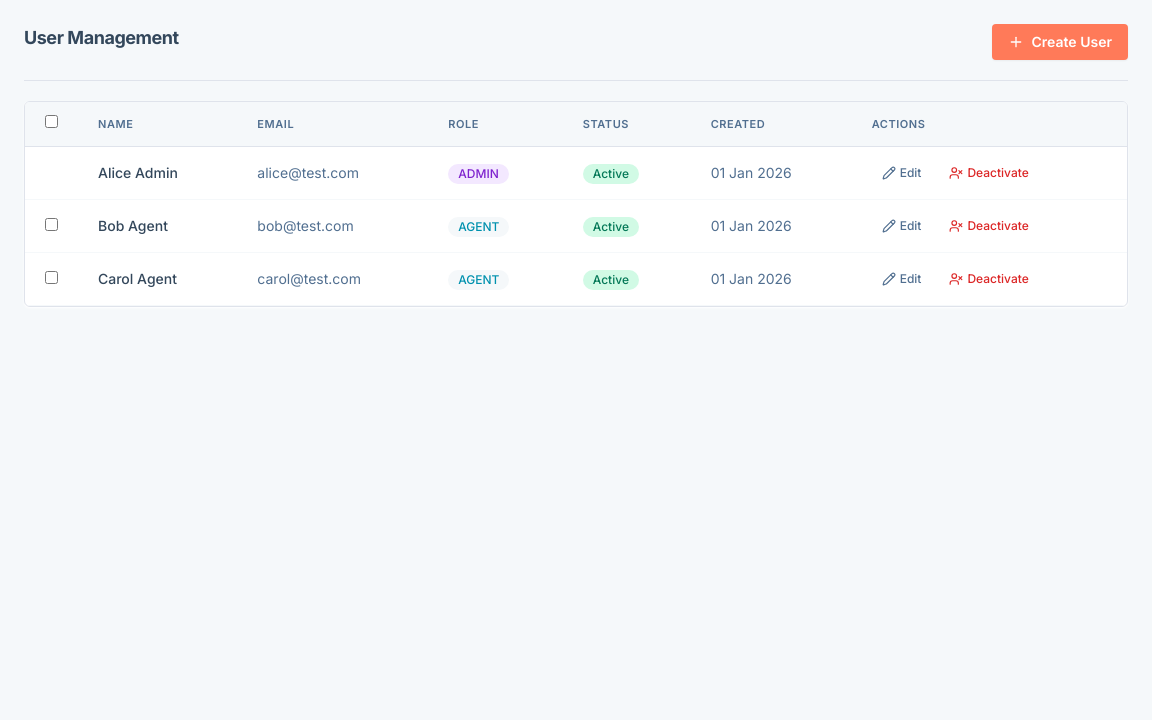
Test: UsersPage — force logout selected agents › clears the selection and hides the button after a successful logout
Expected: the text "Bob Agent" is shown, [78,200,237,252]
Click the checkbox named "Select Bob Agent": click(52, 224) [45,218,58,231]
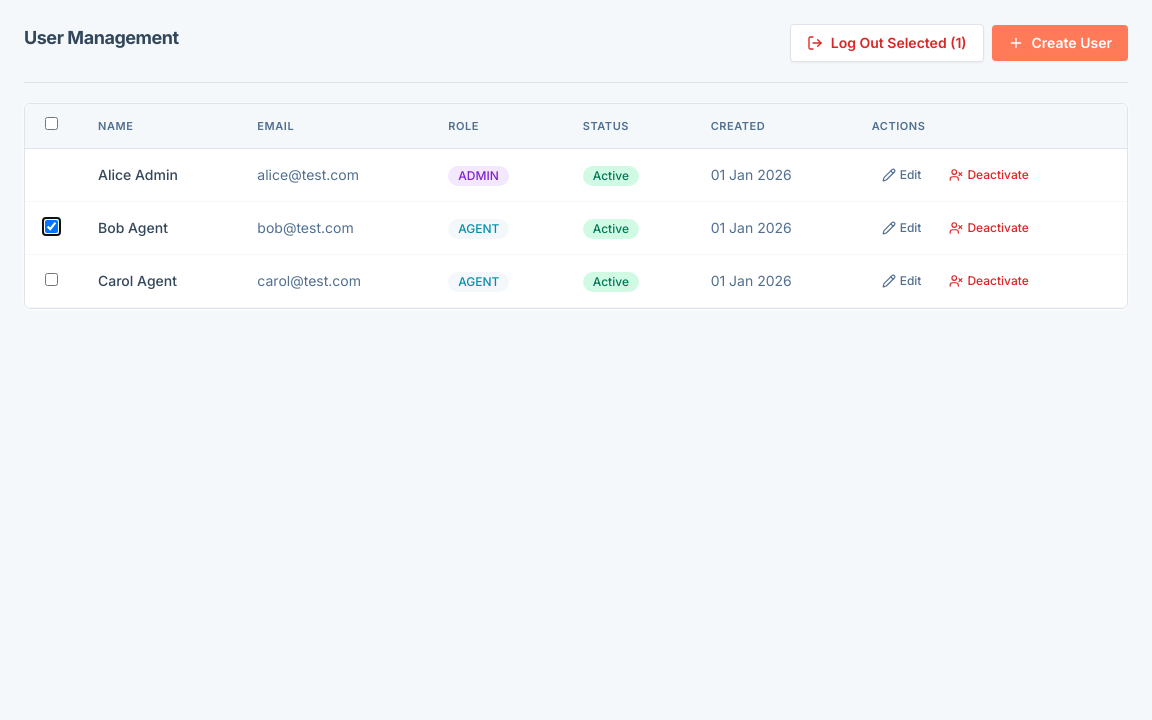
Click the button "Log Out Selected (1)": click(887, 43) [790,24,984,62]
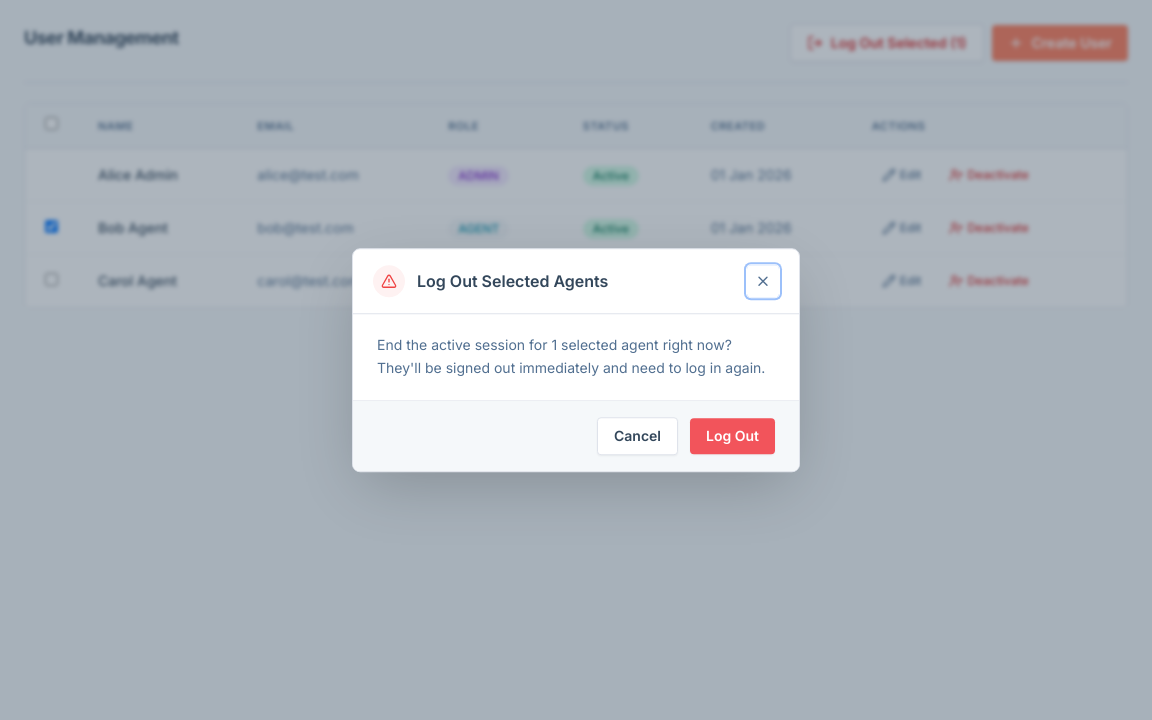
Click the button "Log Out": click(732, 436) [690,418,775,454]
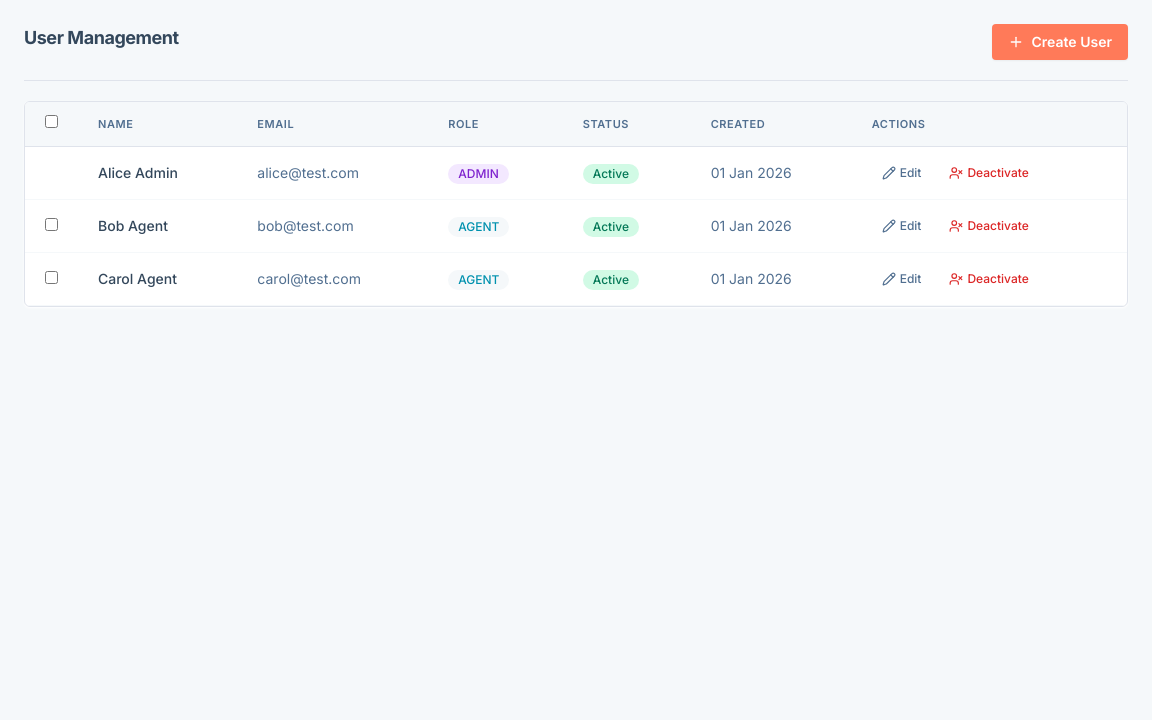
Expected: the checkbox named "Select Bob Agent" is not checked, [45,218,58,231]
Expected: the button "Log Out Selected" is gone
